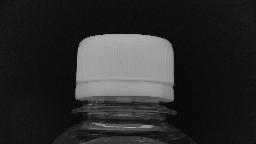Good Cap: (62, 31, 182, 119)
